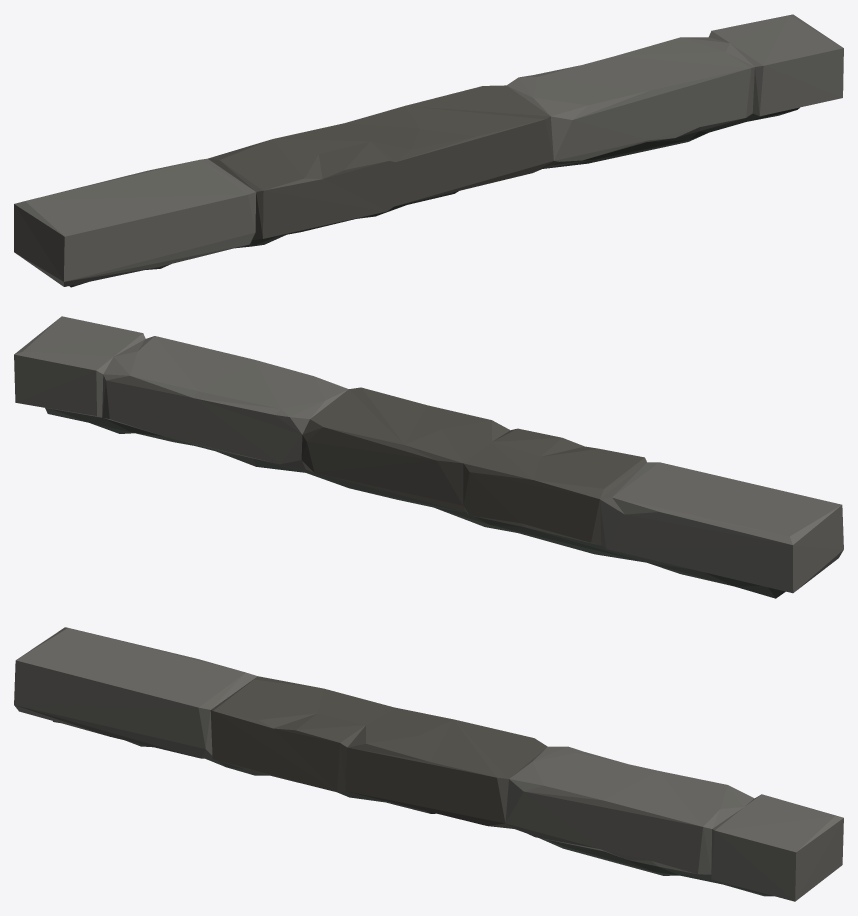
The model's file is MDungeon_StoneBoarder_01.FBX.
3 views of the same model, one above another, from view 1: azimuth 30°, elevation 25°; view 2: azimuth 150°, elevation 25°; view 3: azimuth 330°, elevation 25° (orthographic).
Parts seen in each view (by area): view 1: MDungeon_StoneBoarder_01_LOD0; view 2: MDungeon_StoneBoarder_01_LOD0; view 3: MDungeon_StoneBoarder_01_LOD0.
Boxes of the visible parts, <box> form: MDungeon_StoneBoarder_01_LOD0: <box>14,14,843,287</box>; MDungeon_StoneBoarder_01_LOD0: <box>14,316,843,598</box>; MDungeon_StoneBoarder_01_LOD0: <box>14,627,843,901</box>.
Size of what is drawn, in the model's own units: 6.02 by 0.595 by 0.6848.
